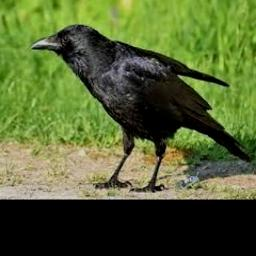Crow: (27, 24, 251, 193)
